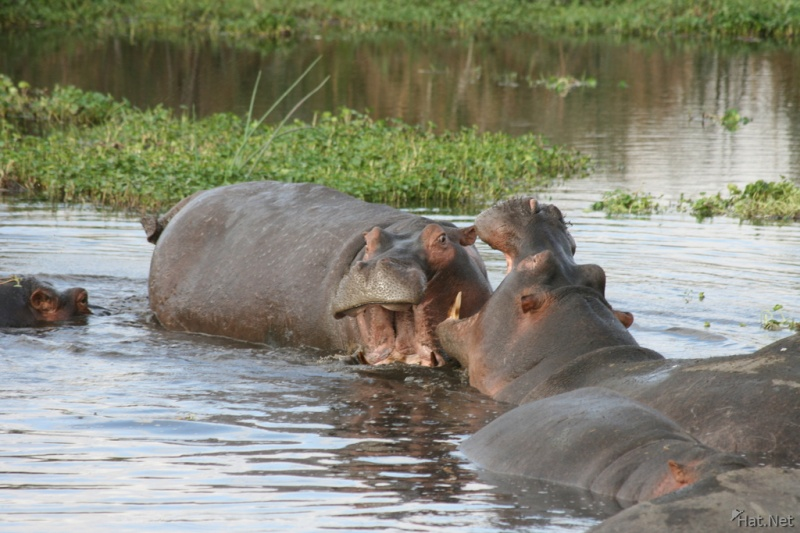hipopotamo: (442, 197, 798, 413), (141, 171, 486, 385)
